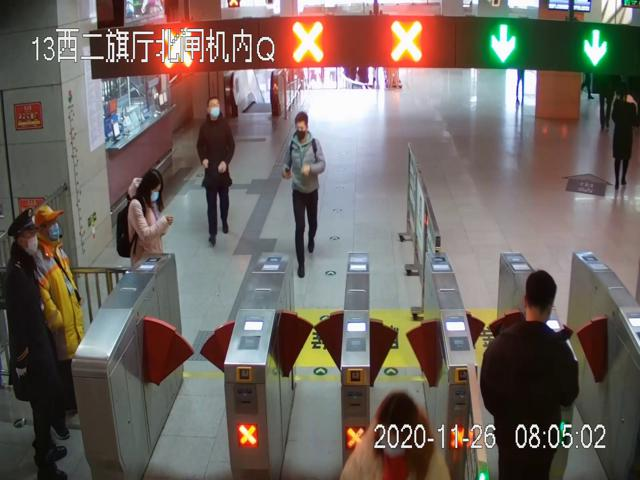person: (2, 208, 68, 477), (283, 111, 326, 279), (196, 96, 236, 247), (117, 168, 174, 268)
